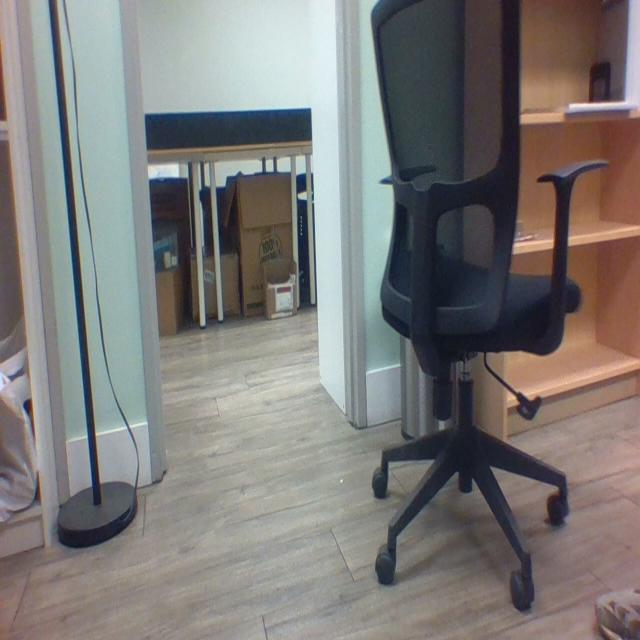chair: (366, 0, 609, 604)
